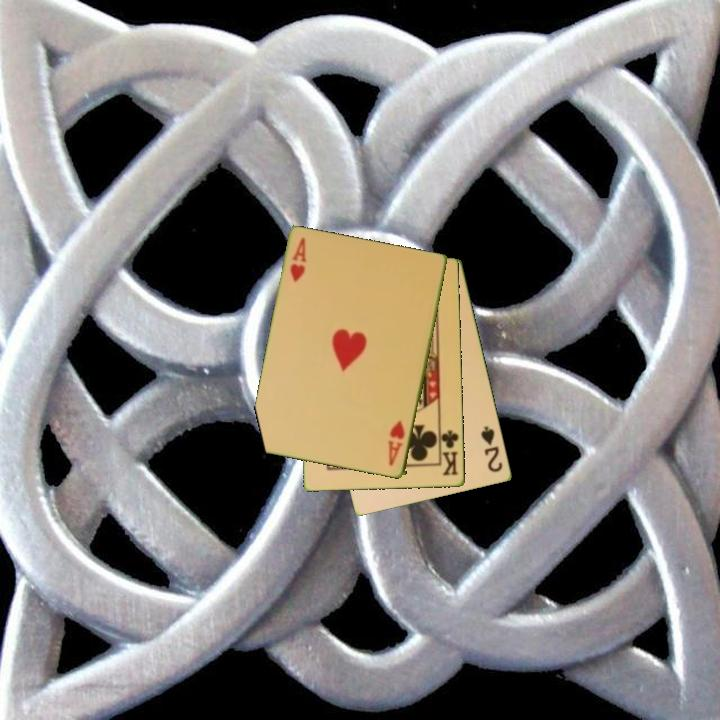2s: (478, 423, 506, 475)
Ah: (385, 417, 408, 469), (287, 234, 310, 285)
Kc: (437, 424, 462, 479)
